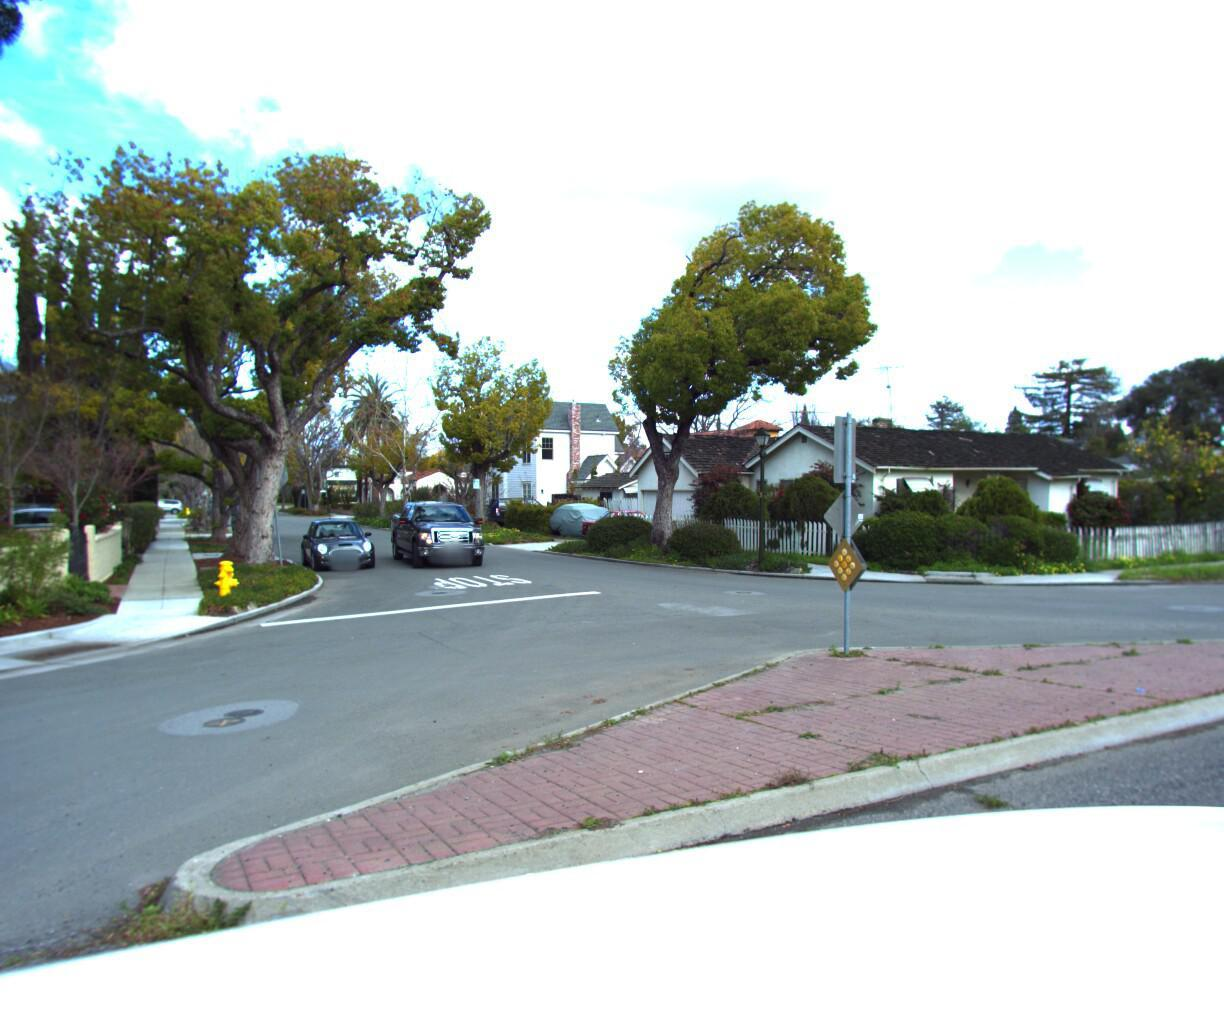car: (390, 505, 493, 575), (297, 516, 382, 574), (578, 508, 681, 547), (548, 504, 625, 543), (484, 501, 568, 532)
